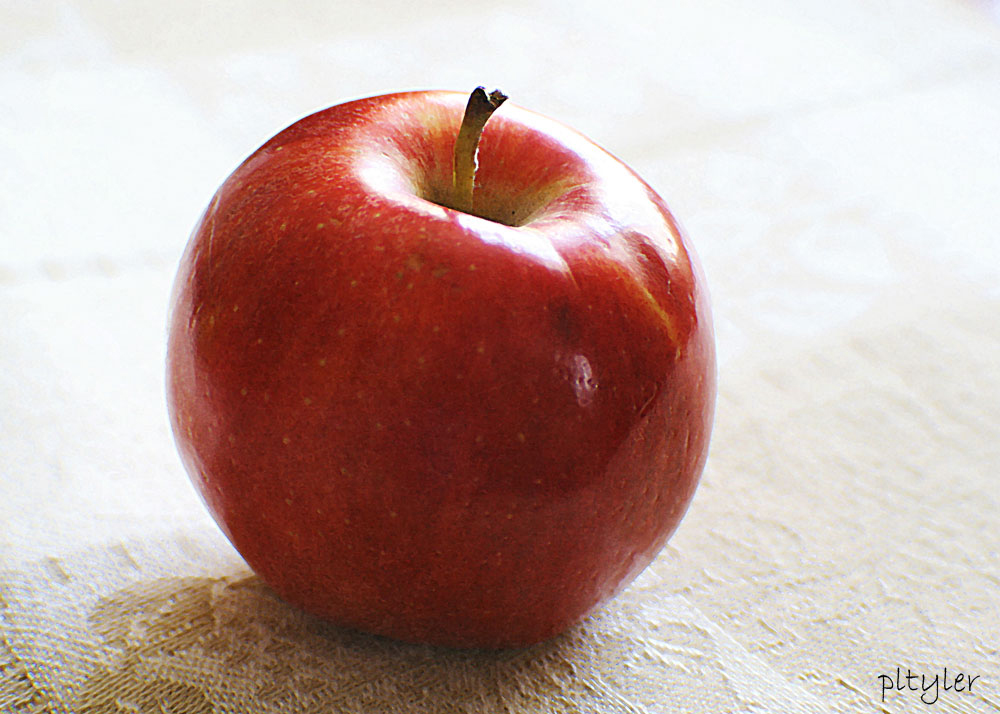apple: (168, 90, 719, 632)
